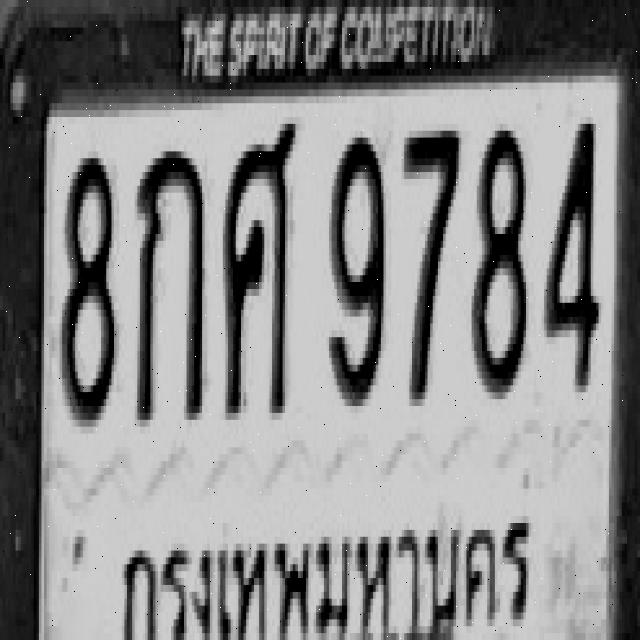10GorGai: (134, 144, 204, 420)
4: (544, 113, 598, 389)
47SorSala: (223, 117, 295, 413)
7: (402, 120, 458, 402)
8: (61, 148, 115, 424), (472, 124, 526, 392)
9: (328, 130, 385, 407)
Bangkok: (122, 514, 532, 640)
